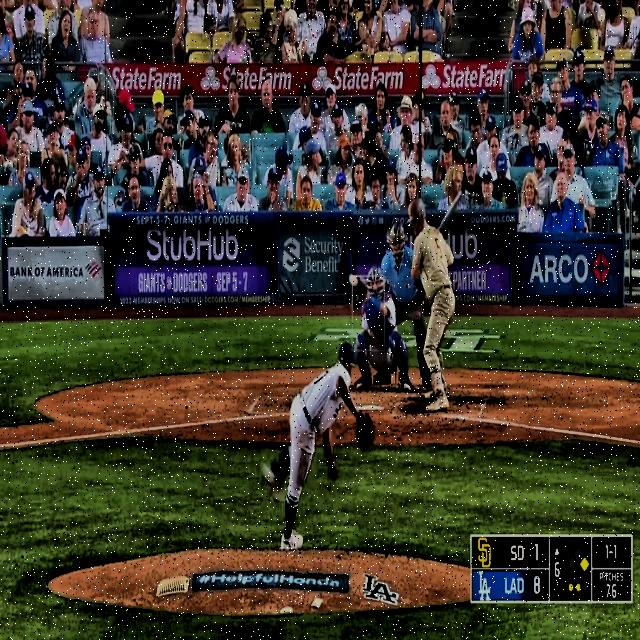baseball: (349, 274, 358, 286)
